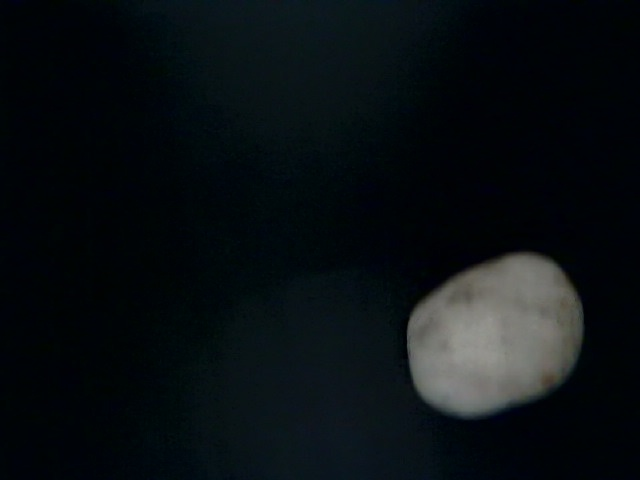QTLJ: (202, 277, 433, 480)
